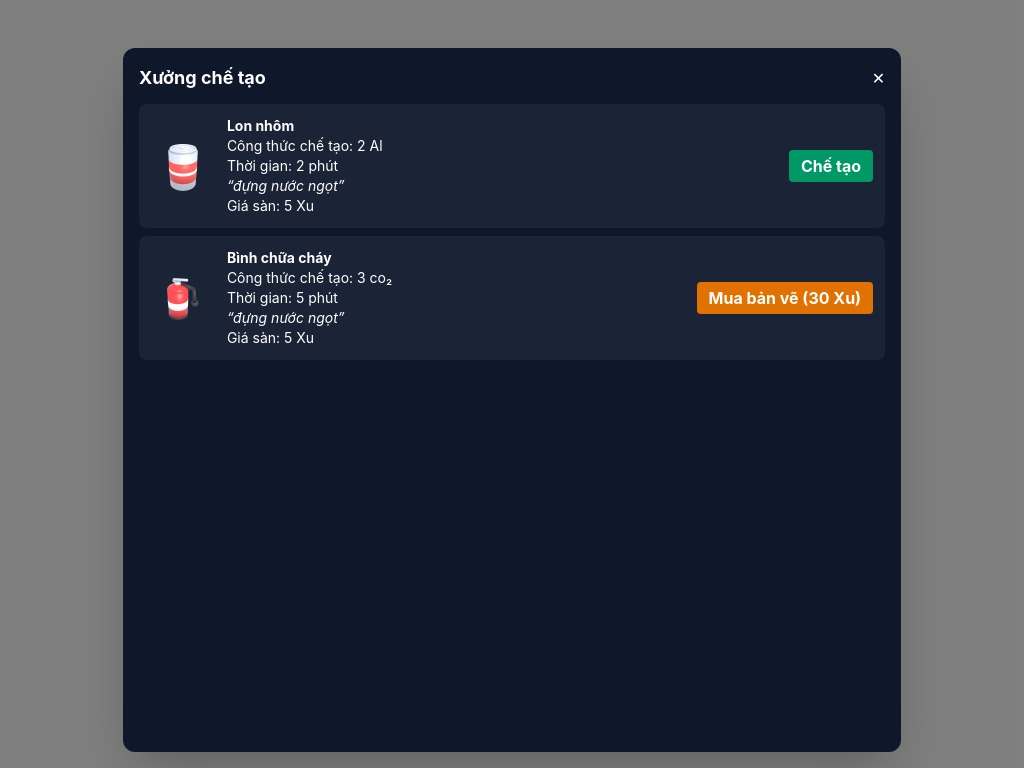
start refusal INSUFFICIENT_MONSTERS shows copy
Step 1. Click the button "Chế tạo" → (831,166), box top-left (789, 150), bottom-right (873, 182)
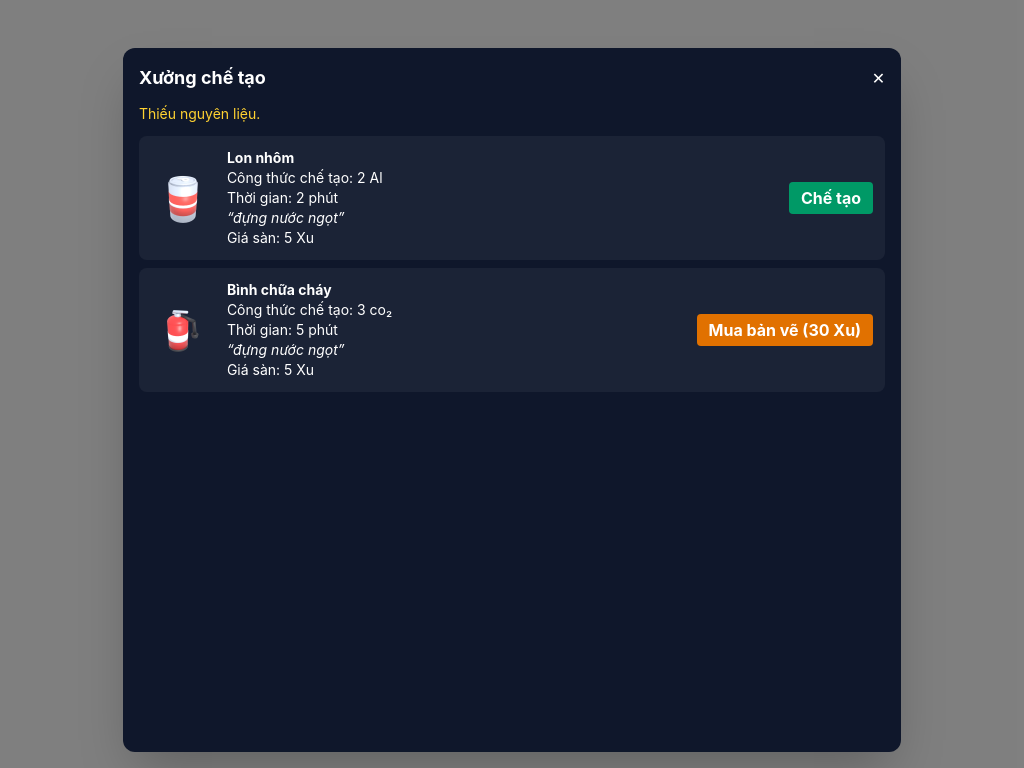
Check: the message reads "Thiếu nguyên liệu.", box top-left (139, 105), bottom-right (260, 122)
